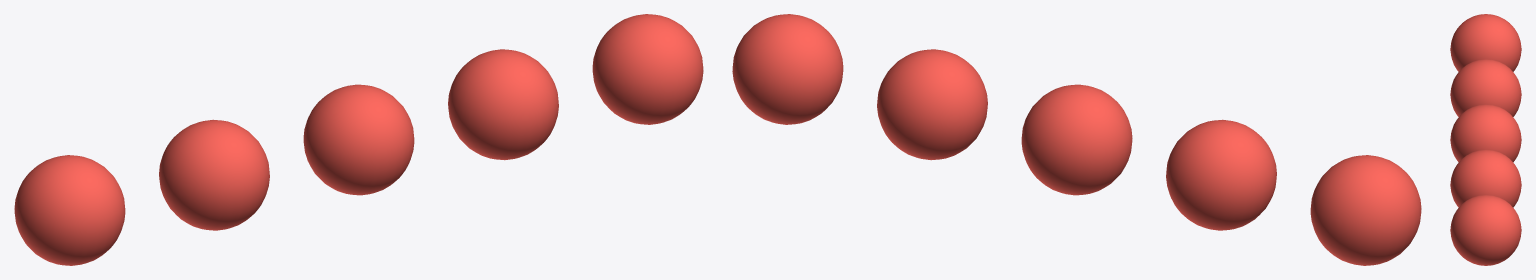
Rendered from red.gltf.
3 views of the same model, side by side, from view 1: azimuth 30°, elevation 25°; view 2: azimuth 150°, elevation 25°; view 3: azimuth 270°, elevation 25° (orthographic). The views are drawn at different scales.
Visible parts, largest first — view 1: r-1, r-0, r-0 (2), r-0 (3), r-0 (1); view 2: r-0, r-0 (2), r-1, r-0 (3), r-0 (1); view 3: r-1, r-0 (2), r-0, r-0 (1), r-0 (3).
Part boxes in pixels (x1,y1,x2,y2): r-1: [592, 14, 703, 124]; r-0: [14, 155, 125, 265]; r-0 (2): [303, 84, 414, 195]; r-0 (3): [448, 49, 558, 160]; r-0 (1): [159, 119, 269, 230]; r-0: [1310, 155, 1421, 265]; r-0 (2): [1021, 84, 1132, 195]; r-1: [732, 14, 843, 124]; r-0 (3): [877, 49, 987, 160]; r-0 (1): [1166, 119, 1276, 230]; r-1: [1450, 195, 1521, 265]; r-0 (2): [1450, 104, 1521, 162]; r-0: [1450, 14, 1521, 71]; r-0 (1): [1450, 59, 1521, 116]; r-0 (3): [1450, 149, 1521, 207].
Size of the model in its own units: 7 by 1 by 1.
